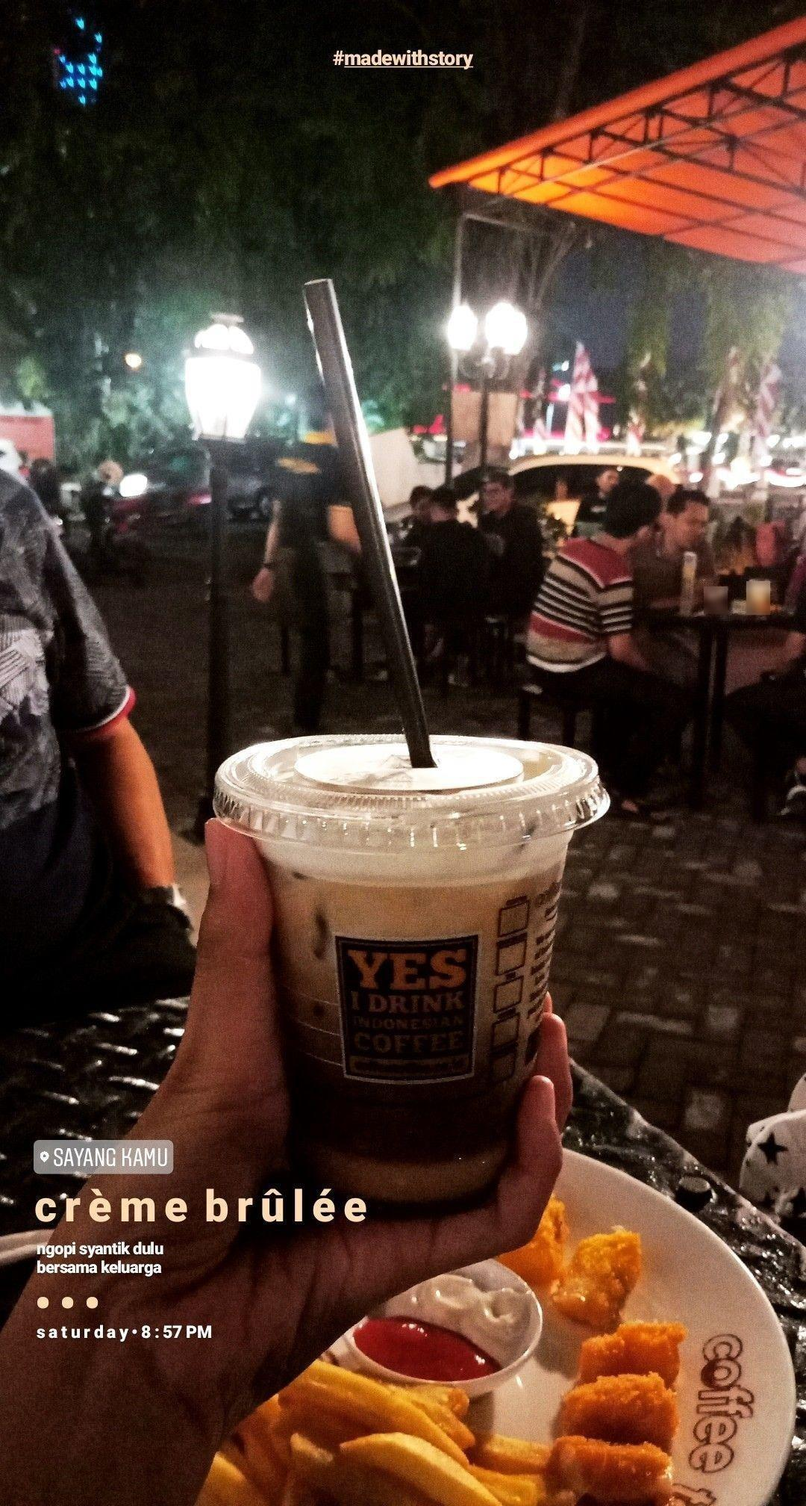cup-disposable: (208, 729, 607, 1220)
